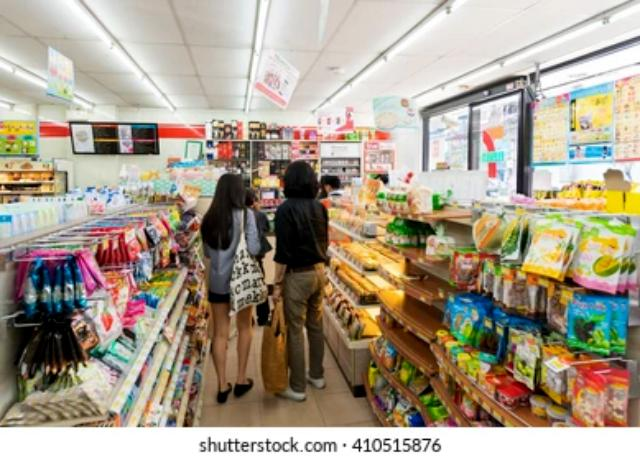background: (0, 0, 640, 426)
